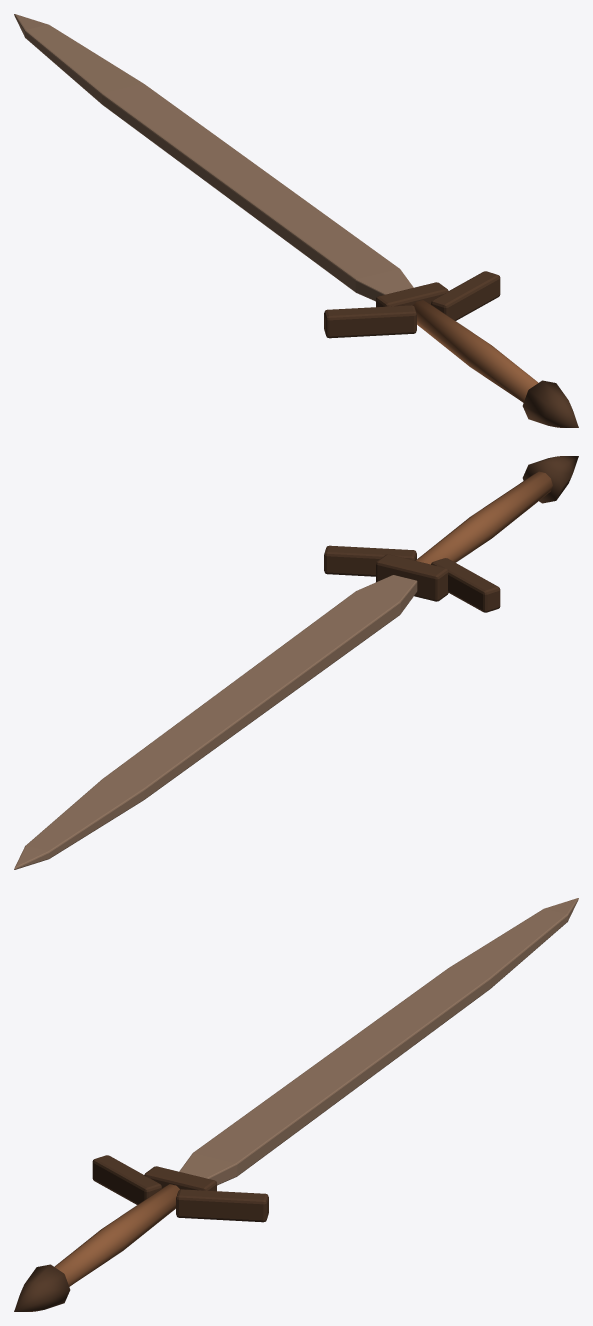
Rendered from greatsword_12_broad_rusty.glb.
3 renders of one model, top to bottom at view 1: azimuth 30°, elevation 25°; view 2: azimuth 150°, elevation 25°; view 3: azimuth 330°, elevation 25°, orthographic.
Visible parts, largest first — view 1: 12_broad_rusty_Blade, 12_broad_rusty_Guard, 12_broad_rusty_Grip, 12_broad_rusty_Pommel; view 2: 12_broad_rusty_Blade, 12_broad_rusty_Guard, 12_broad_rusty_Grip, 12_broad_rusty_Pommel; view 3: 12_broad_rusty_Blade, 12_broad_rusty_Guard, 12_broad_rusty_Grip, 12_broad_rusty_Pommel.
Boxes of the visible parts, x1,y1,x2,y2 form: 12_broad_rusty_Blade: (14,14,413,301); 12_broad_rusty_Guard: (324,271,500,338); 12_broad_rusty_Grip: (413,300,538,402); 12_broad_rusty_Pommel: (522,380,578,427); 12_broad_rusty_Blade: (14,575,417,869); 12_broad_rusty_Guard: (324,545,500,612); 12_broad_rusty_Grip: (415,471,552,564); 12_broad_rusty_Pommel: (522,456,578,503); 12_broad_rusty_Blade: (179,898,578,1185); 12_broad_rusty_Guard: (92,1155,268,1222); 12_broad_rusty_Grip: (54,1184,179,1286); 12_broad_rusty_Pommel: (14,1264,70,1311).
Size of the model in its own units: 0.2457 by 0.056 by 1.39.
